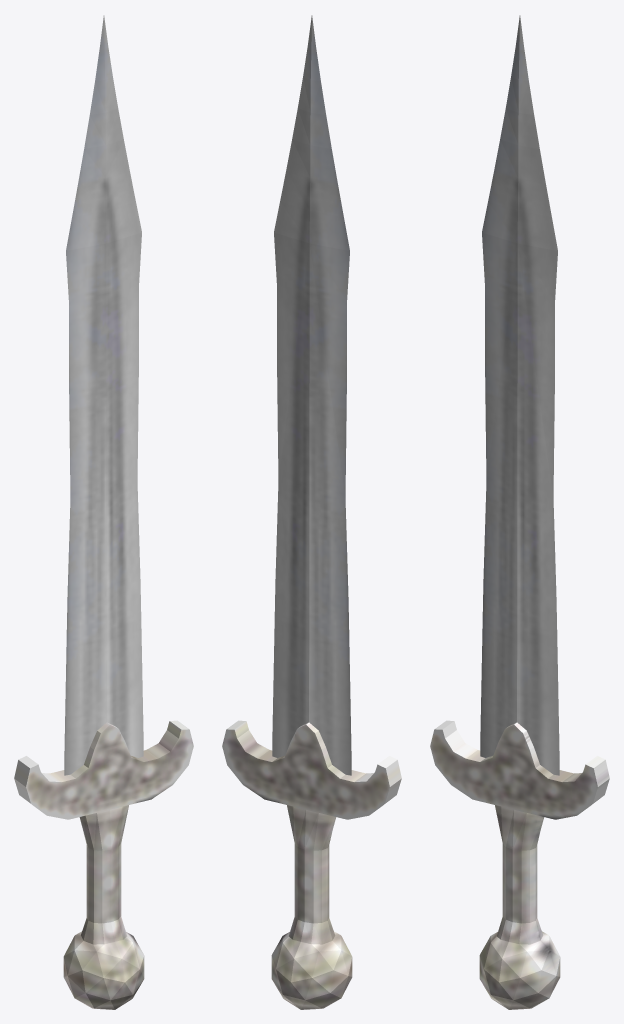
File: sword346_wtf.obj
3 views of the same model, side by side, from view 1: azimuth 30°, elevation 25°; view 2: azimuth 150°, elevation 25°; view 3: azimuth 330°, elevation 25° (orthographic).
Parts seen in each view (by area): view 1: group2; view 2: group2; view 3: group2.
Part boxes in pixels (x1,y1,x2,y2): group2: [14, 15, 193, 1009]; group2: [222, 15, 401, 1009]; group2: [430, 15, 609, 1009].
Bounding box in the file's own units: 117 × 660 × 50.67.
